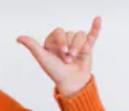clockwise: (12, 15, 106, 81)
